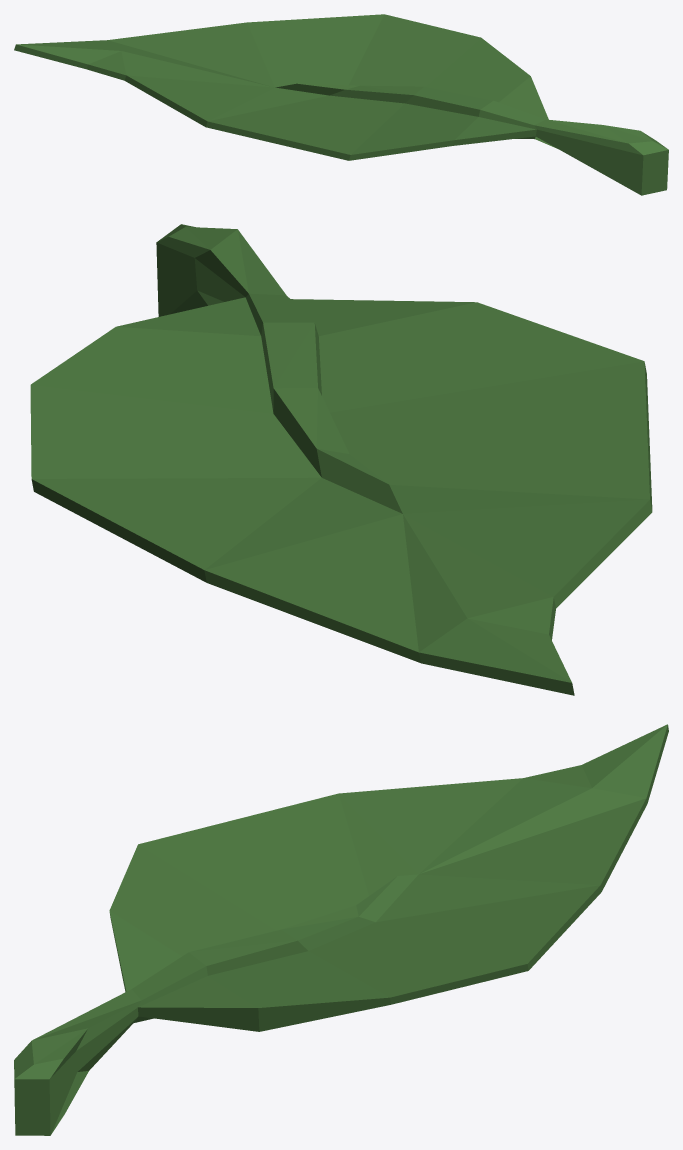
Rendered from leaf (1).fbx.
The picture shows the model from 3 angles, top to bottom: view 1: azimuth 30°, elevation 25°; view 2: azimuth 150°, elevation 25°; view 3: azimuth 270°, elevation 25°; orthographic projection. The views are drawn at different scales.
Parts seen in each view (by area): view 1: Plane; view 2: Plane; view 3: Plane.
Boxes of the visible parts, bbox=[...] form: Plane: bbox=[14, 14, 668, 195]; Plane: bbox=[30, 224, 652, 695]; Plane: bbox=[14, 724, 668, 1135].
Bounding box in the file's own units: 190 × 34.85 × 177.
